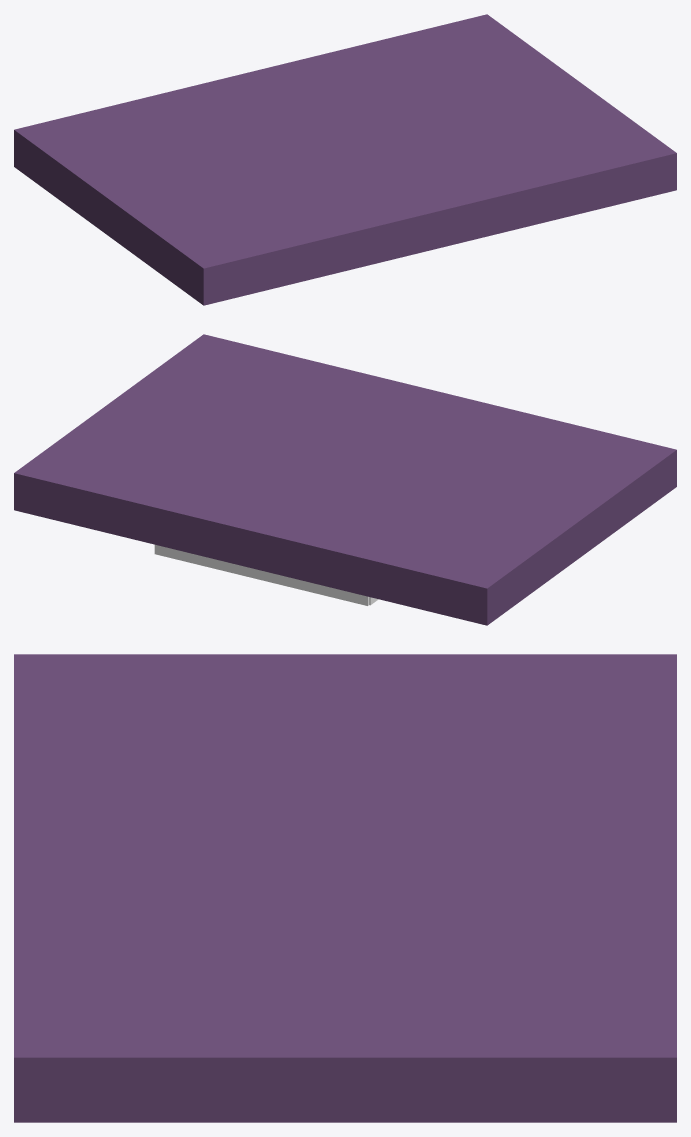
The model's file is ronalds.glb.
3 views of the same model, one above another, from view 1: azimuth 30°, elevation 25°; view 2: azimuth 150°, elevation 25°; view 3: azimuth 270°, elevation 25° (orthographic). The views are drawn at different scales.
Parts seen in each view (by area): view 1: FF_RoomShell; view 2: FF_RoomShell, PP_PitWall_0; view 3: FF_RoomShell.
Boxes of the visible parts, <box> form: FF_RoomShell: <box>14,14,676,305</box>; FF_RoomShell: <box>14,334,676,625</box>; PP_PitWall_0: <box>154,544,369,605</box>; FF_RoomShell: <box>14,654,676,1122</box>.
Bounding box in the file's own units: 72 × 8.3 × 50.
